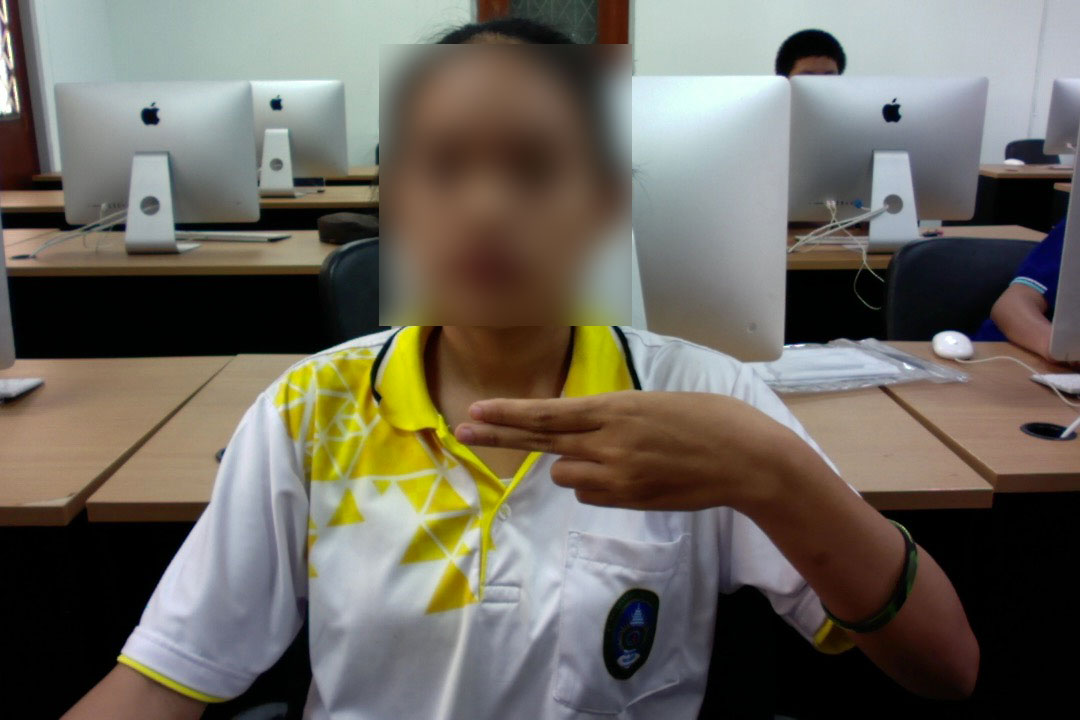hor: (448, 381, 792, 516)
